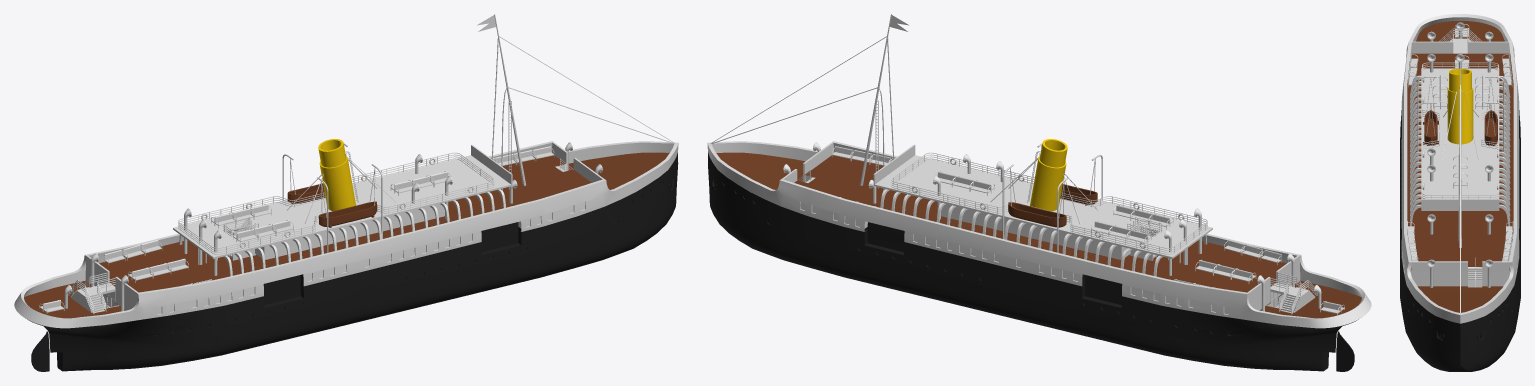
The model's file is cruiser.glb.
The picture shows the model from 3 angles, left to right: view 1: azimuth 30°, elevation 25°; view 2: azimuth 150°, elevation 25°; view 3: azimuth 270°, elevation 25°; orthographic projection. The views are drawn at different scales.
Visible parts, largest first — view 1: Cube, Cube.002, Cylinder.001, Cube.006, Cube.003, Cube.001, Cube.004; view 2: Cube, Cube.002, Cylinder.001, Cube.006, Cube.004, Cube.001, Cube.003; view 3: Cube.002, Cylinder.001, Cube, Cube.006, Cube.003, Cube.004.
Part boxes in pixels (box(x1,y1,x2,y2)): Cube: box(27, 153, 678, 371); Cube.002: box(14, 141, 678, 328); Cylinder.001: box(64, 14, 674, 311); Cube.006: box(39, 146, 554, 313); Cube.003: box(318, 201, 376, 227); Cube.001: box(31, 331, 49, 371); Cube.004: box(287, 183, 325, 203); Cube: box(708, 152, 1358, 371); Cube.002: box(707, 141, 1371, 328); Cylinder.001: box(711, 14, 1321, 311); Cube.006: box(832, 146, 1344, 315); Cube.004: box(1008, 202, 1066, 227); Cube.001: box(1336, 331, 1354, 371); Cube.003: box(1060, 184, 1097, 205); Cube.002: box(1401, 14, 1519, 323); Cylinder.001: box(1410, 22, 1510, 313); Cube: box(1400, 110, 1520, 371); Cube.006: box(1407, 24, 1513, 261); Cube.003: box(1423, 110, 1438, 145); Cube.004: box(1484, 110, 1497, 145).
Bounding box in the file's own units: 69.88 × 25.38 × 11.53.
